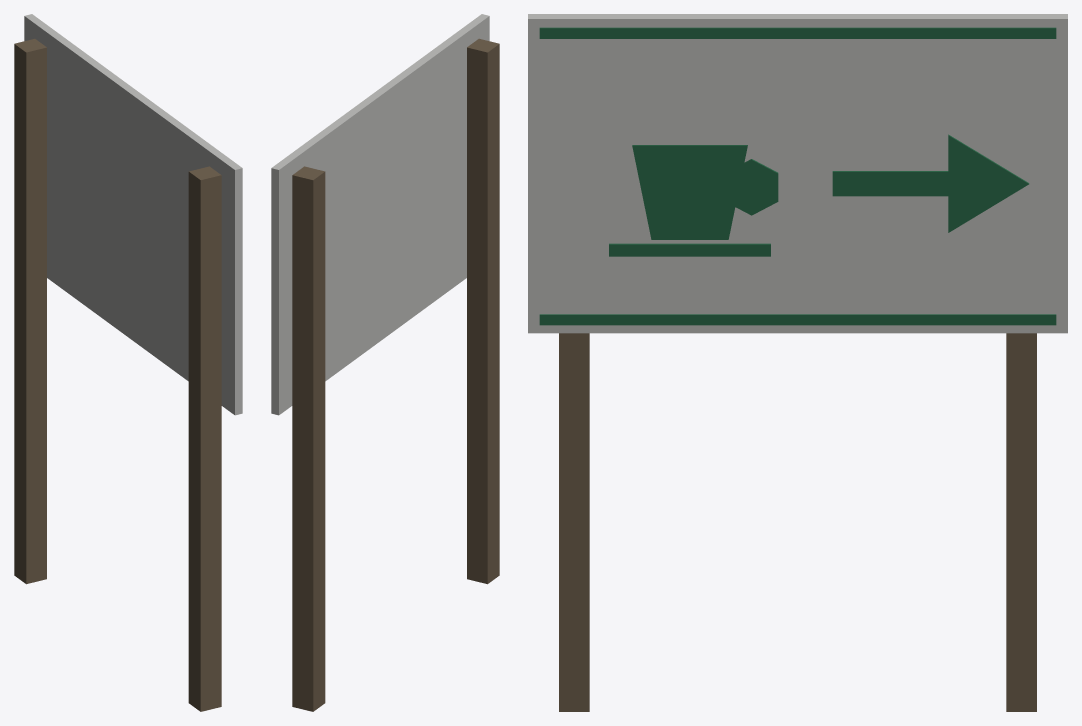
Rendered from SM_Prop_road_cafesign_1_LOD1.glb.
3 views of the same model, side by side, from view 1: azimuth 30°, elevation 25°; view 2: azimuth 150°, elevation 25°; view 3: azimuth 270°, elevation 25° (orthographic). The views are drawn at different scales.
Visible parts, largest first — view 1: SM_Prop_road_cafesign_1_LOD1; view 2: SM_Prop_road_cafesign_1_LOD1; view 3: SM_Prop_road_cafesign_1_LOD1.
Part boxes in pixels (box(x1,y1,x2,y2)): SM_Prop_road_cafesign_1_LOD1: box(14, 14, 242, 711); SM_Prop_road_cafesign_1_LOD1: box(271, 14, 499, 711); SM_Prop_road_cafesign_1_LOD1: box(528, 14, 1067, 711).
Size of the model in its own units: 0.122 by 2 by 1.4.
